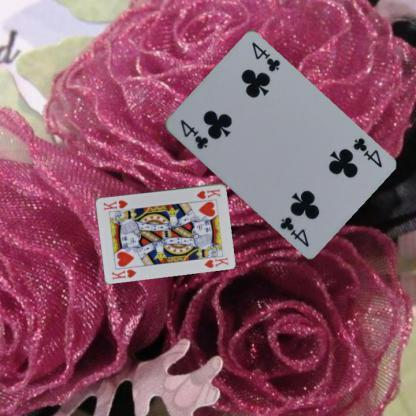4c: (350, 134, 384, 170), (177, 116, 210, 151)
Kh: (109, 266, 138, 281), (194, 186, 221, 200)
